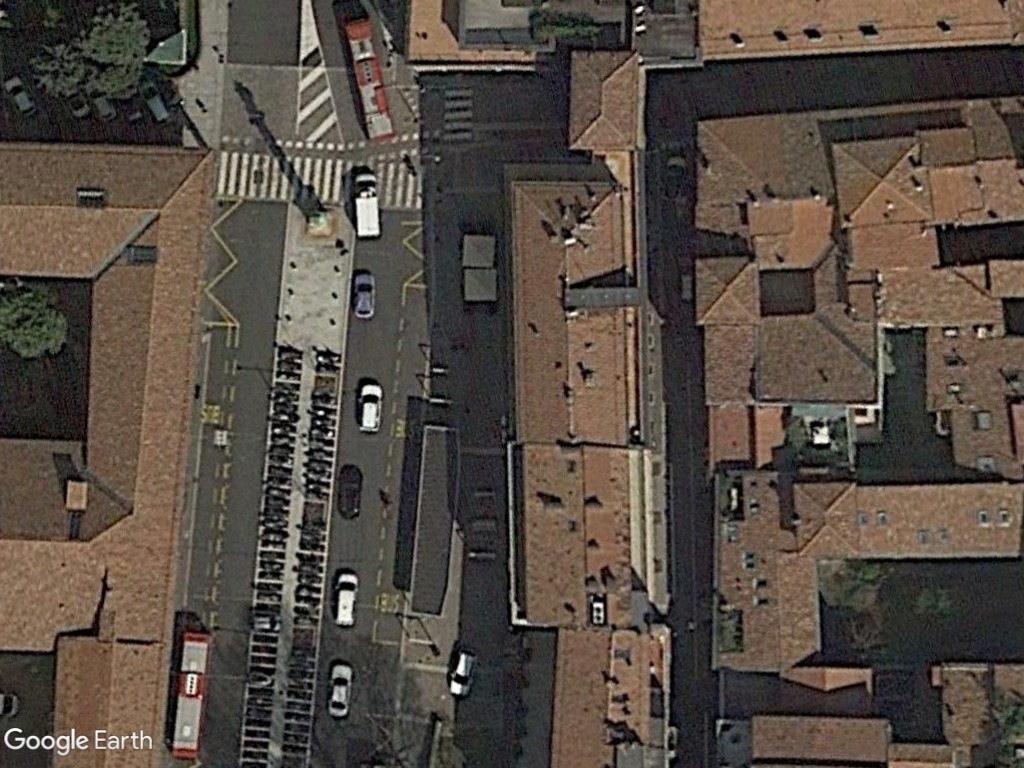bus: (337, 10, 400, 149), (163, 628, 214, 762)
car: (443, 650, 480, 702), (330, 569, 360, 632), (322, 662, 354, 721), (354, 378, 383, 437), (349, 269, 380, 321)
van: (348, 170, 385, 244)
